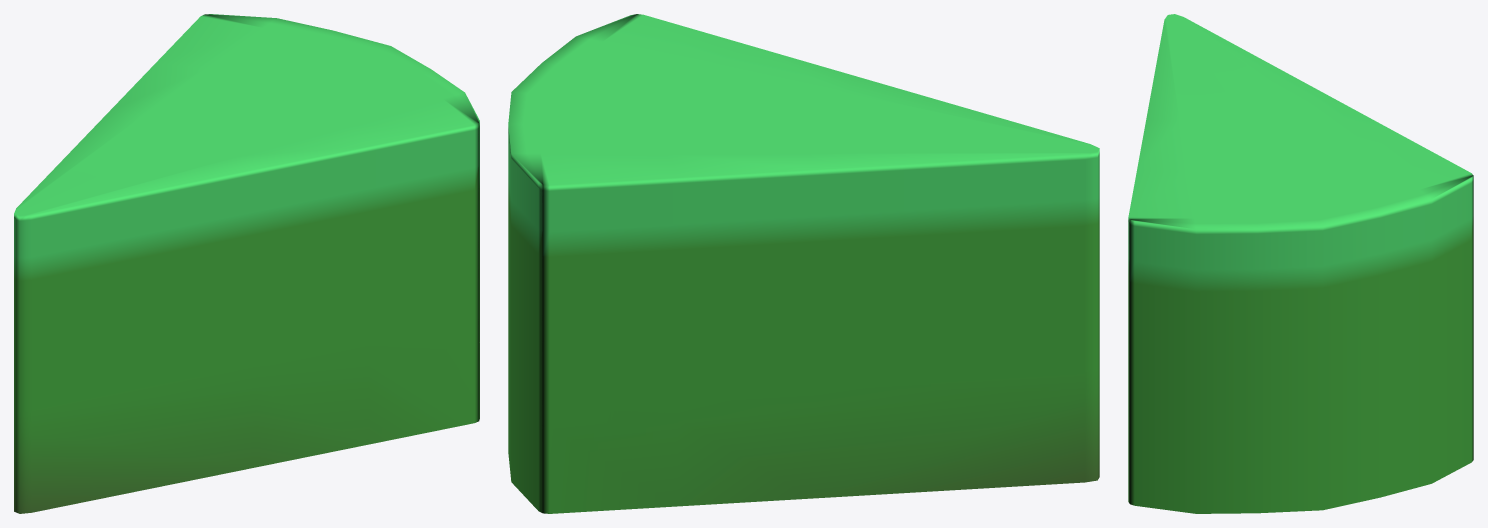
The model's file is Cake_low.fbx.
The picture shows the model from 3 angles, left to right: view 1: azimuth 30°, elevation 25°; view 2: azimuth 150°, elevation 25°; view 3: azimuth 270°, elevation 25°; orthographic projection. The views are drawn at different scales.
Visible parts, largest first — view 1: Cake_low; view 2: Cake_low; view 3: Cake_low.
Part boxes in pixels (x1,y1,x2,y2): Cake_low: (14,14,479,513); Cake_low: (508,14,1099,513); Cake_low: (1128,14,1473,513).
Size of the model in its own units: 334 by 206 by 226.
